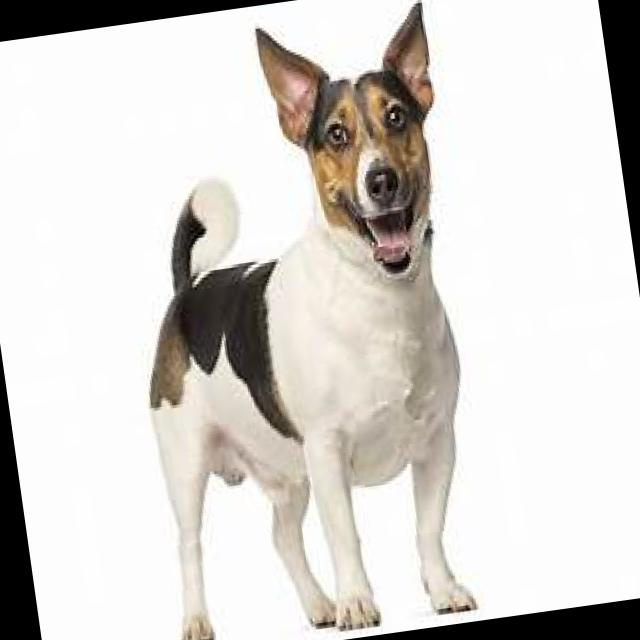dog: (93, 0, 509, 640)
